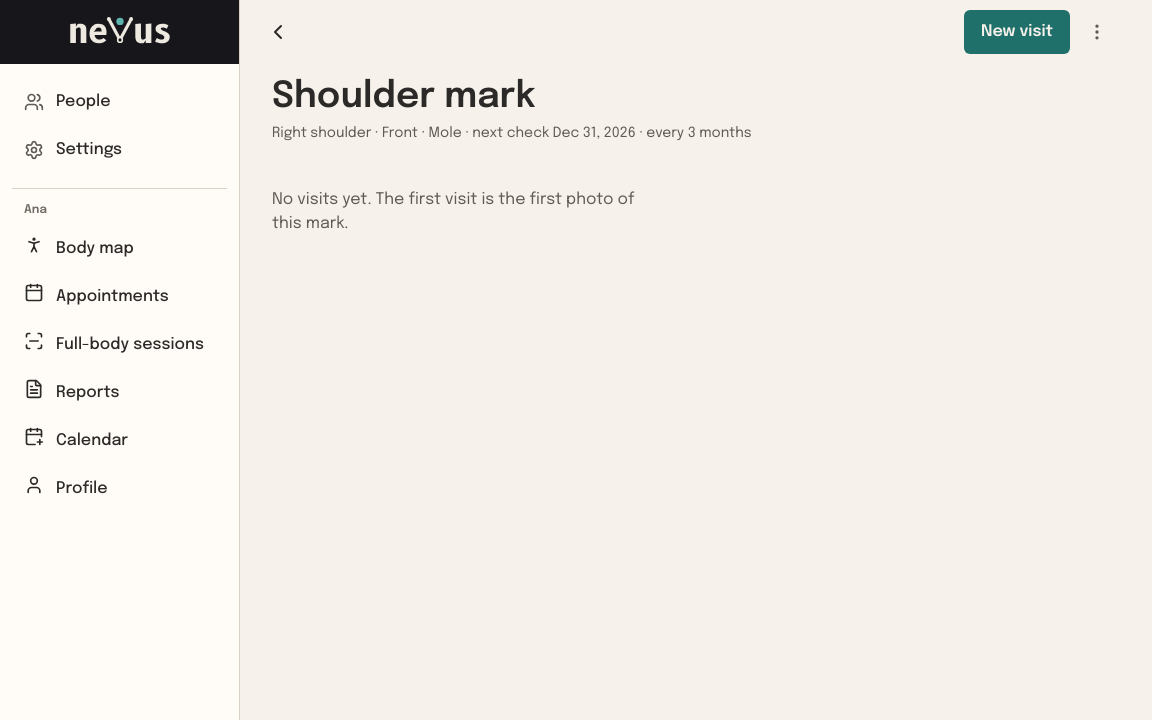
it: marks on the body map › moves a mark to the trash from its page
What coordinates should you click on to do the following:
click the button named "More"
I would click on:
 (1097, 32)
Its box is 1074,10 -> 1120,54.
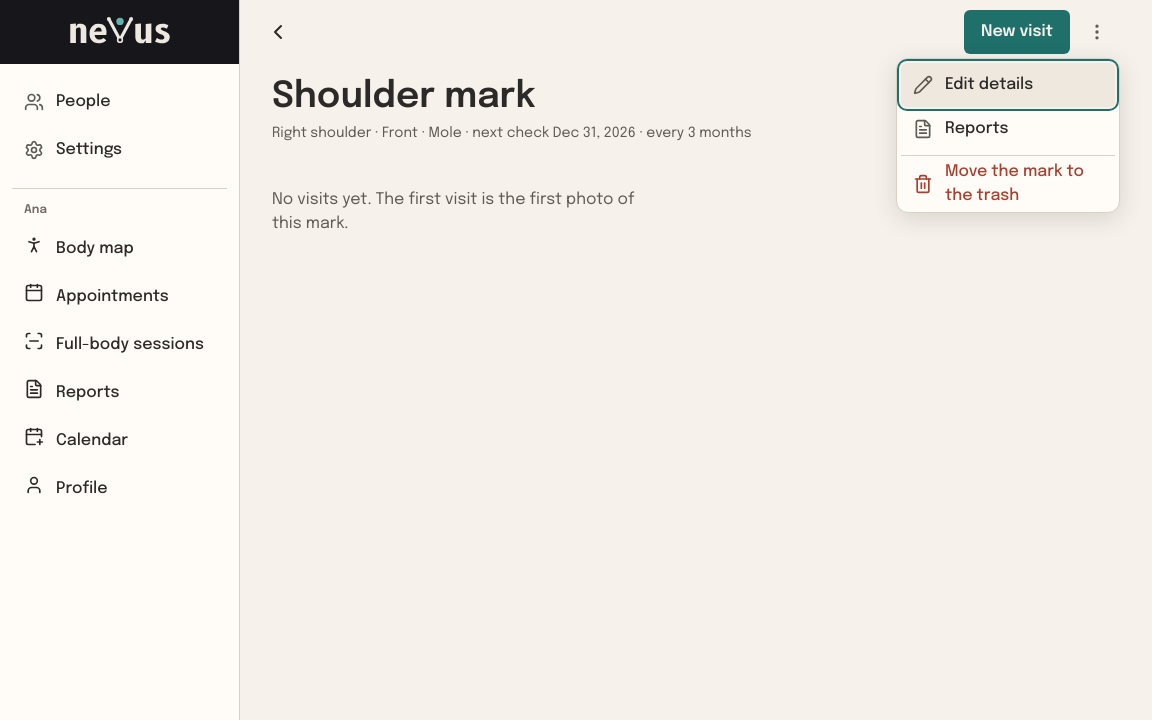
What coordinates should you click on to do the following:
click the menu item "Move the mark to the trash"
I would click on:
 (1008, 182)
Its box is 901,155 -> 1115,208.
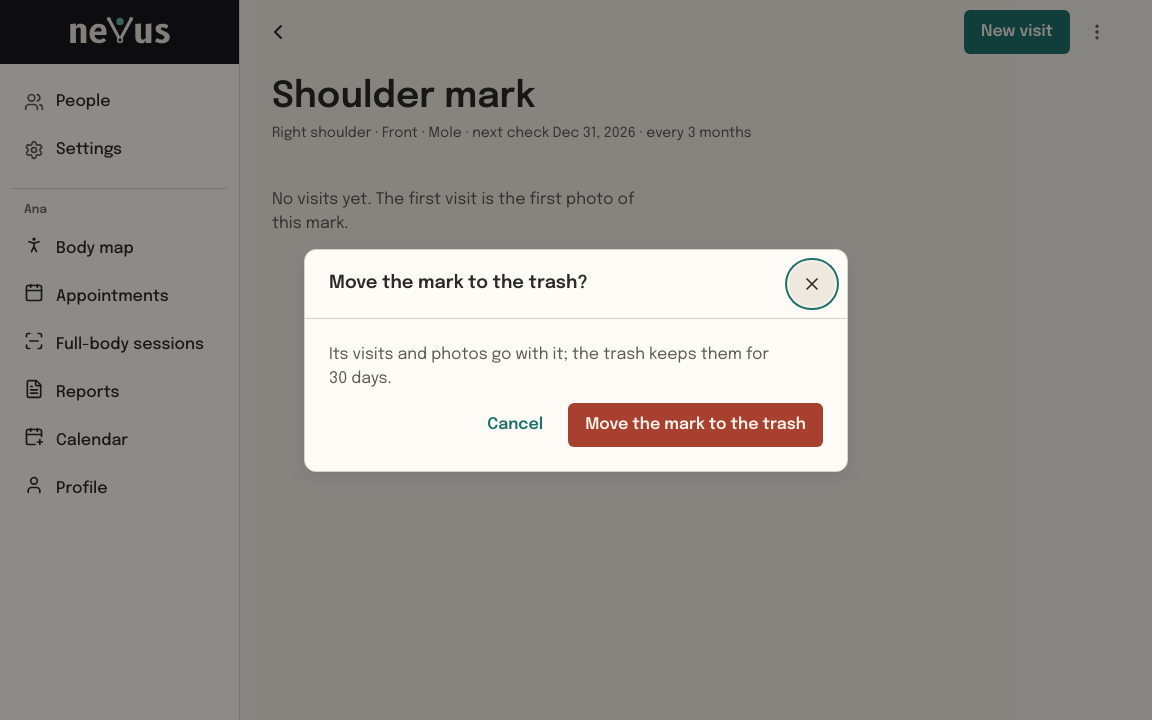
What coordinates should you click on to do the following:
click the button "Move the mark to the trash"
I would click on:
 (696, 424)
Its box is 568,402 -> 823,446.
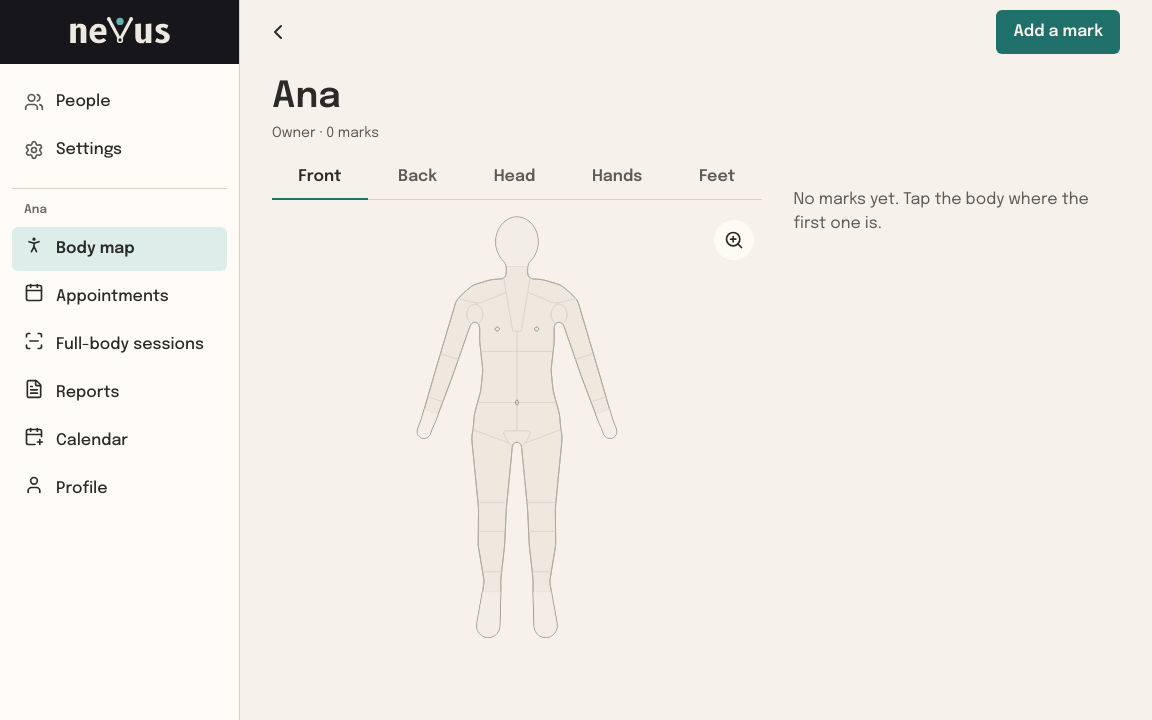
Check: the heading "Ana" is shown, box 272,79 -> 341,115
Check: the heading "Shoulder mark" is gone
